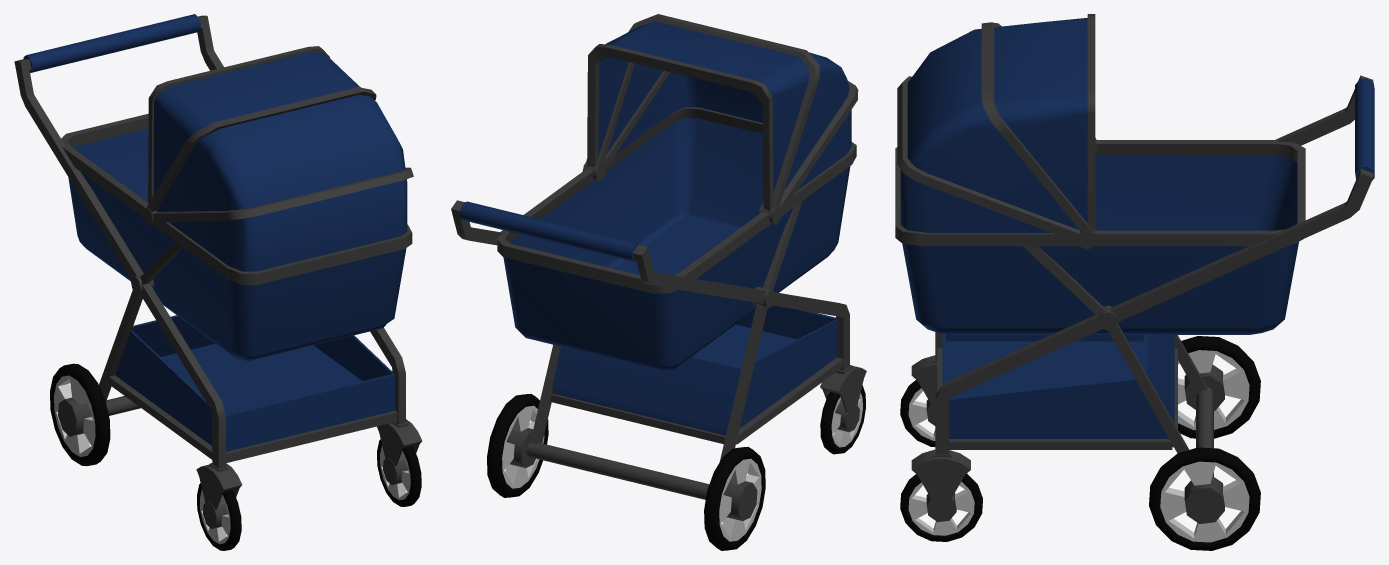
File: Stroller.fbx
The picture shows the model from 3 angles, left to right: view 1: azimuth 30°, elevation 25°; view 2: azimuth 150°, elevation 25°; view 3: azimuth 270°, elevation 25°; orthographic projection. The views are drawn at different scales.
Parts seen in each view (by area): view 1: Stroller; view 2: Stroller; view 3: Stroller.
Part boxes in pixels (<box>): Stroller: <box>14,14,422,550</box>; Stroller: <box>451,14,866,550</box>; Stroller: <box>895,14,1374,550</box>.
Bounding box in the file's own units: 2.75 × 4.51 × 4.46.
